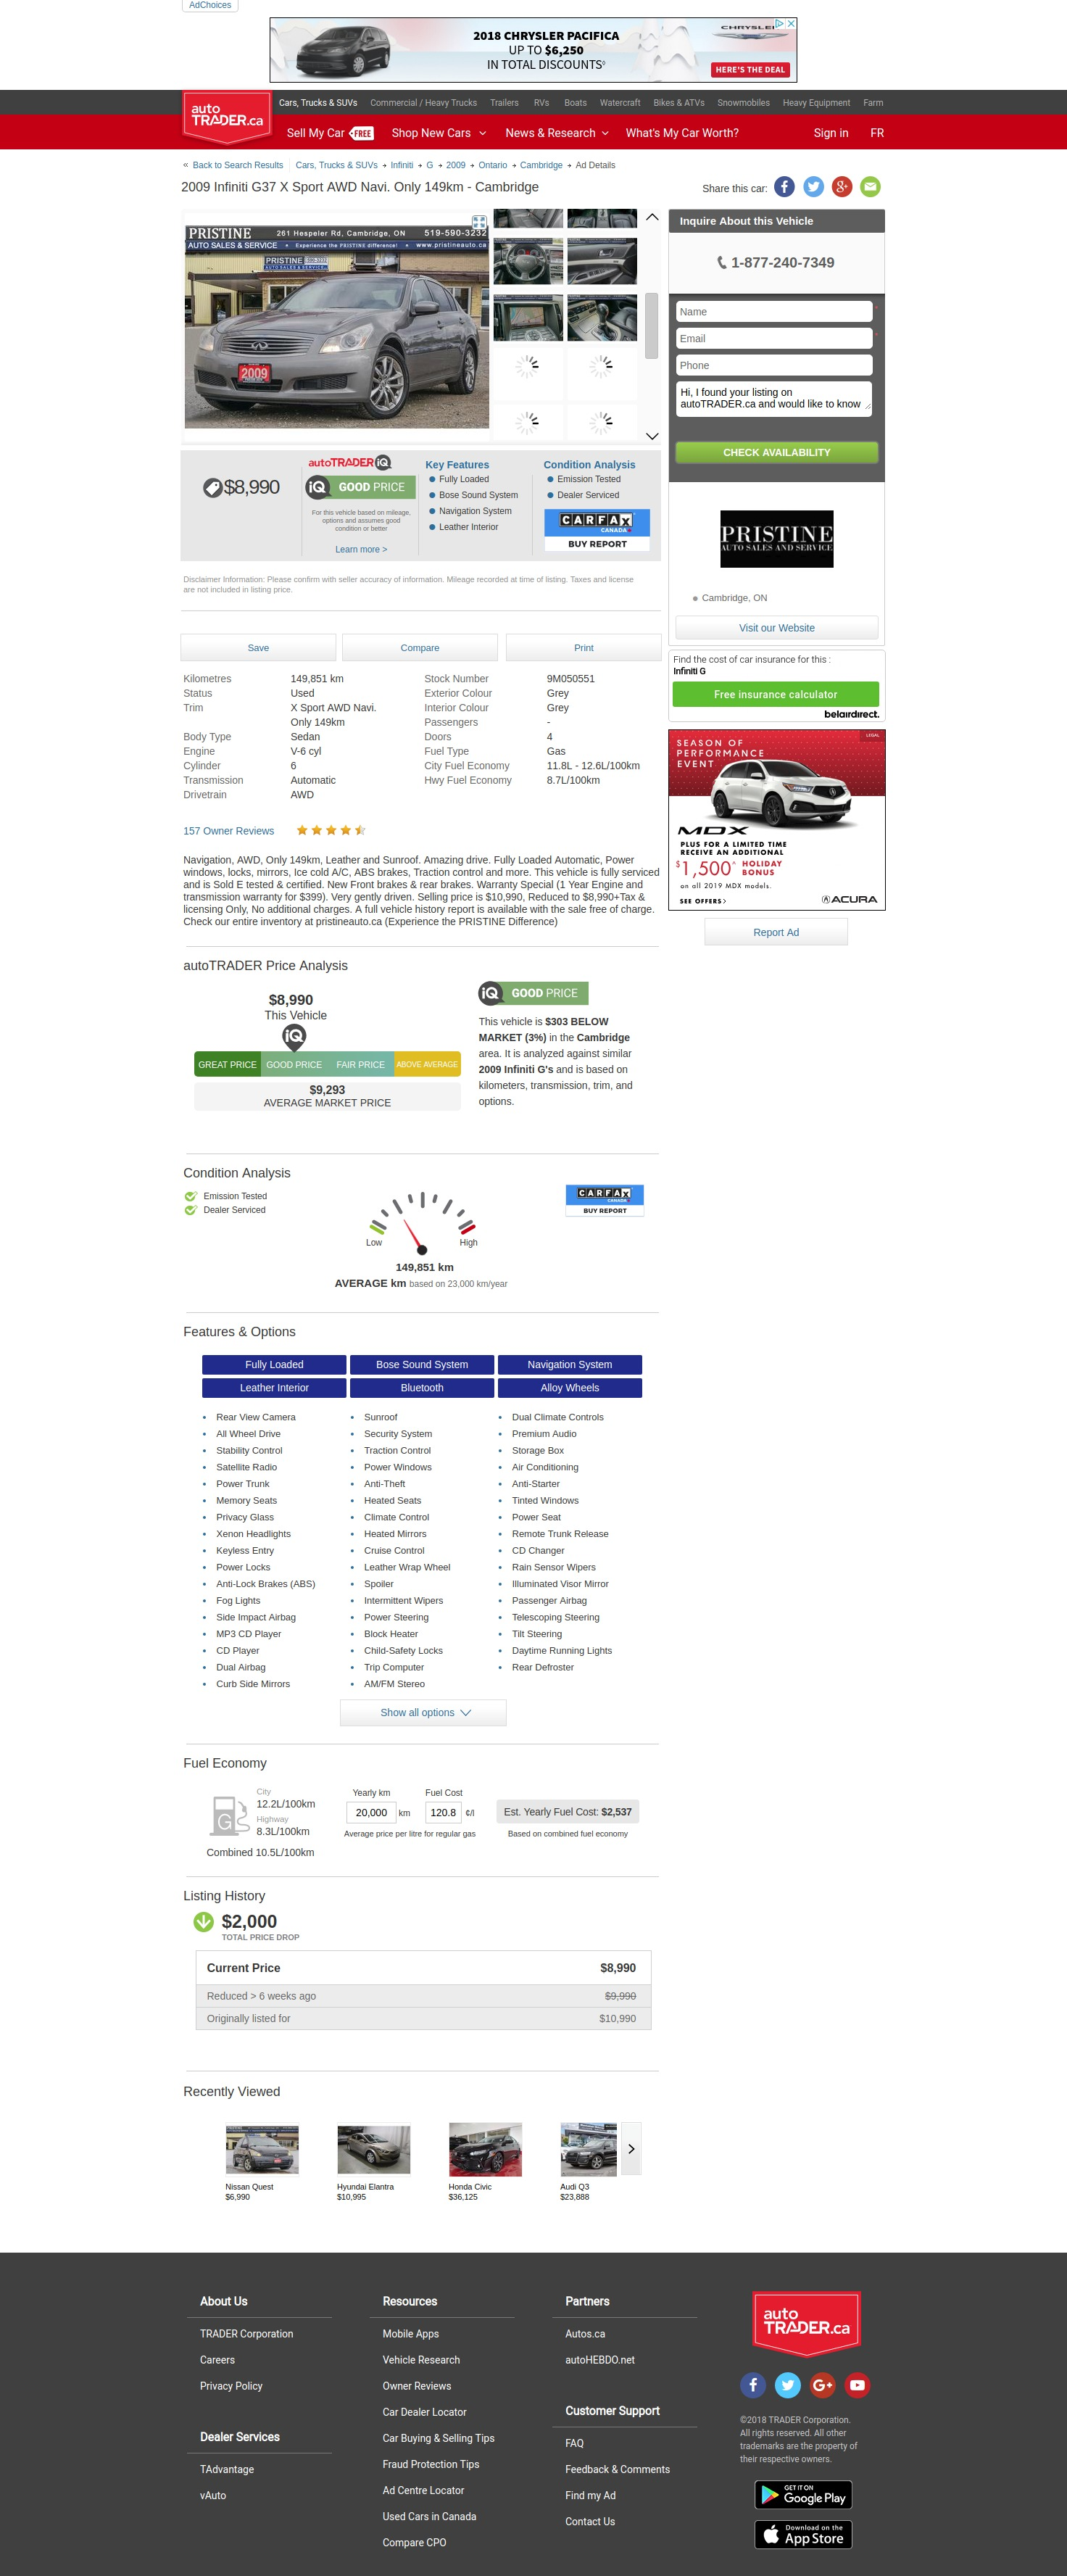car: (645, 432, 662, 442)
